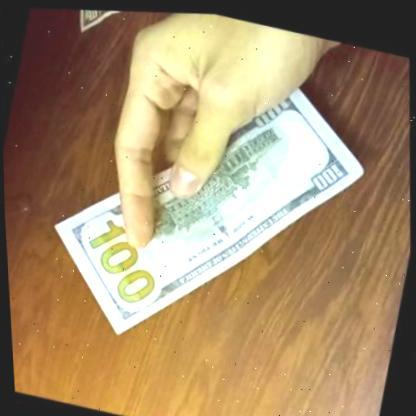one_hundred-back: (19, 12, 400, 392)
